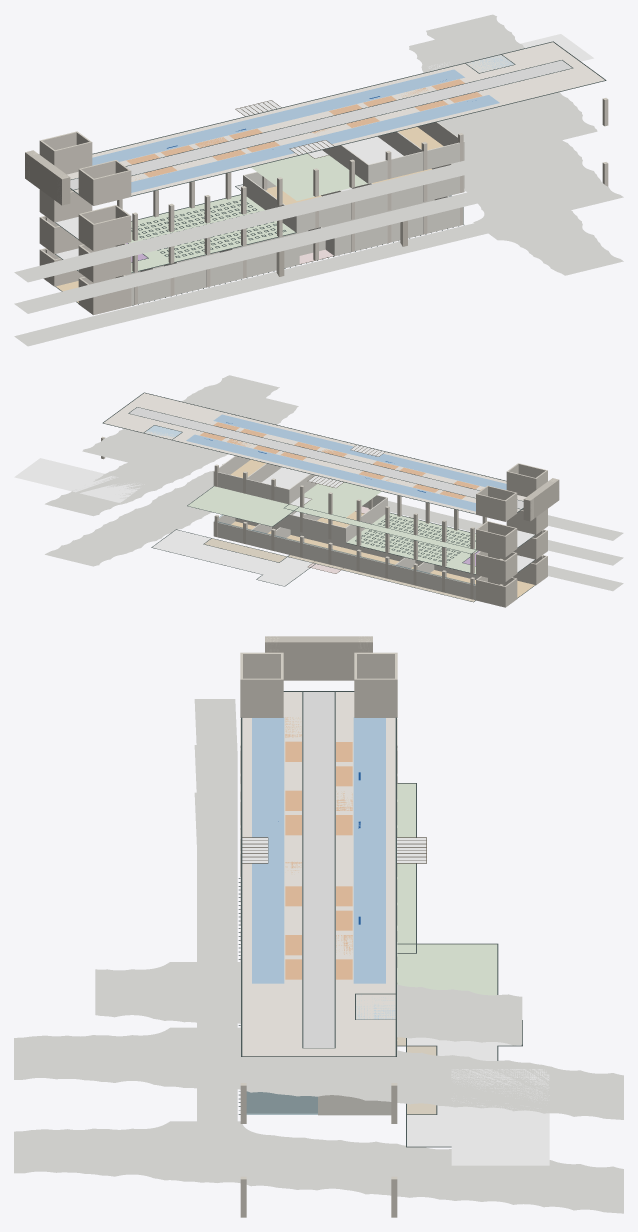
The model's file is interior.glb.
3 views of the same model, one above another, from view 1: azimuth 30°, elevation 25°; view 2: azimuth 150°, elevation 25°; view 3: azimuth 270°, elevation 25° (orthographic). The views are drawn at different scales.
Visible parts, largest first — view 1: PL|floor, CL|floor, GF|floor, ML|floor, GF|prtn, CL|wall, PL|wall, ML|prtn, ML|wall, CL|prtn, GF|wall, PL|line (+2 smaller); view 2: PL|floor, CL|floor, GF|floor, GF|prtn, ML|floor, CL|wall, ML|wall, GF|wall, PL|wall, CL|prtn, PL|line, ML|prtn (+5 smaller); view 3: PL|floor, CL|floor, GF|floor, PL|wall, PL|col, PL|line, GF|prtn, GF|glass, CL|wall.
Part boxes in pixels (box(x1,y1,x2,y2)): PL|floor: box(67, 14, 604, 195); CL|floor: box(14, 34, 623, 282); GF|floor: box(14, 117, 623, 346); ML|floor: box(14, 168, 499, 313); GF|prtn: box(125, 196, 459, 305); CL|wall: box(39, 98, 608, 251); PL|wall: box(25, 131, 131, 205); ML|prtn: box(243, 164, 464, 232); ML|wall: box(39, 172, 463, 282); CL|prtn: box(322, 122, 464, 183); GF|wall: box(39, 162, 608, 315); PL|line: box(70, 41, 606, 196); PL|floor: box(82, 375, 526, 513); CL|floor: box(14, 398, 623, 553); GF|floor: box(45, 463, 623, 601); GF|prtn: box(213, 515, 480, 600); ML|floor: box(293, 501, 623, 573); CL|wall: box(101, 436, 547, 557); ML|wall: box(300, 495, 547, 581); GF|wall: box(214, 515, 547, 607); PL|wall: box(476, 463, 559, 521); CL|prtn: box(213, 456, 317, 504); PL|line: box(102, 392, 523, 514); ML|prtn: box(274, 495, 387, 542); PL|floor: box(95, 692, 522, 1056); CL|floor: box(14, 699, 623, 1165); GF|floor: box(14, 792, 623, 1213); PL|wall: box(240, 636, 397, 717); PL|col: box(265, 636, 372, 680); PL|line: box(241, 691, 396, 1056); GF|prtn: box(247, 1091, 391, 1115); GF|glass: box(246, 1091, 317, 1114); CL|wall: box(240, 718, 397, 1123).
Size of the model in its own units: 109 by 21.47 by 60.
